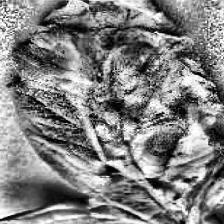disease: (4, 0, 224, 224)
